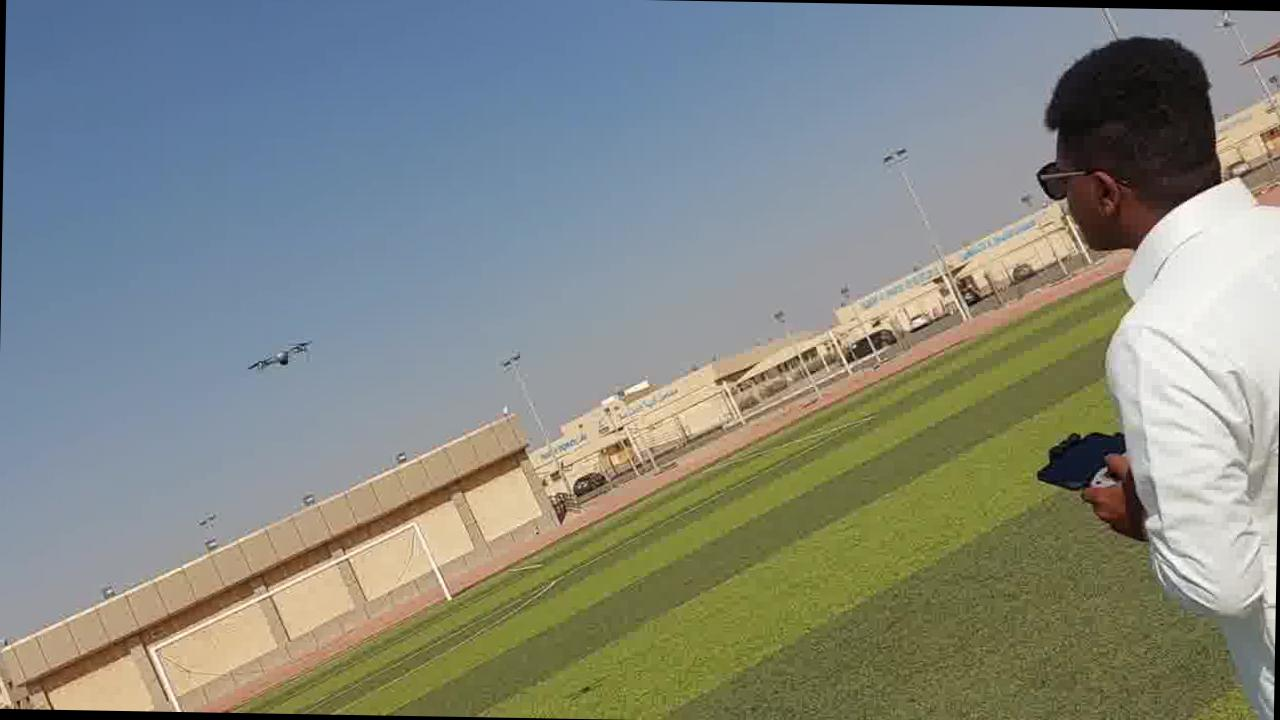drone: (242, 332, 324, 380)
